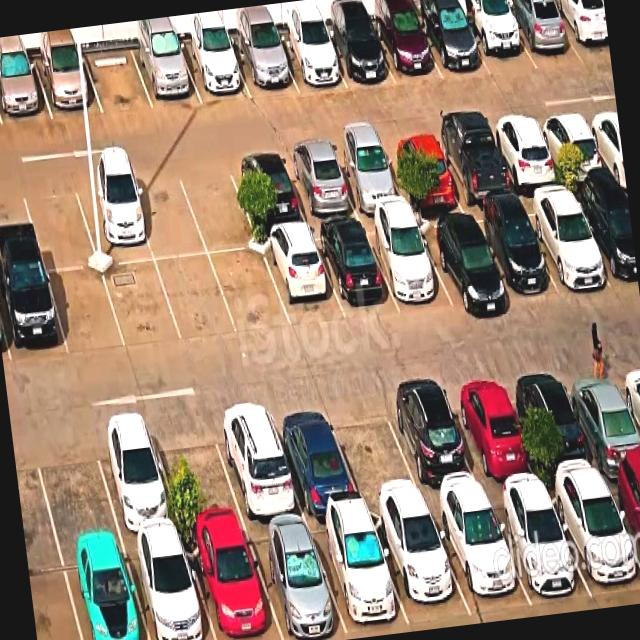car: (307, 511, 411, 639), (380, 381, 485, 503), (243, 521, 348, 640), (487, 489, 592, 606), (428, 496, 531, 615), (369, 506, 471, 624), (442, 373, 541, 494), (209, 400, 305, 524), (546, 478, 640, 604), (182, 527, 282, 640), (267, 398, 362, 516), (510, 365, 603, 485), (89, 417, 181, 538), (123, 534, 215, 640), (518, 191, 612, 290), (560, 361, 640, 477), (413, 211, 506, 306), (464, 204, 556, 299), (60, 541, 148, 640), (259, 228, 345, 329), (311, 221, 399, 318), (362, 217, 453, 309), (72, 172, 154, 265), (570, 186, 638, 287), (431, 126, 515, 204), (0, 268, 68, 364), (227, 152, 307, 231), (280, 146, 359, 222), (328, 140, 407, 214), (380, 133, 461, 205), (458, 4, 537, 77), (501, 0, 583, 69), (487, 117, 563, 191), (534, 111, 610, 183), (369, 11, 442, 85), (415, 8, 490, 79), (321, 20, 395, 88), (131, 42, 202, 109), (178, 39, 251, 104), (33, 52, 102, 119), (274, 29, 346, 92), (230, 34, 298, 97), (549, 0, 610, 62), (0, 58, 52, 125), (604, 471, 640, 563)
free: (324, 391, 424, 506), (149, 413, 245, 532), (29, 423, 120, 547), (176, 158, 259, 254), (127, 167, 207, 259), (20, 178, 98, 270), (155, 255, 237, 342), (102, 260, 182, 349), (209, 249, 291, 334), (47, 267, 125, 356), (83, 46, 153, 113)
